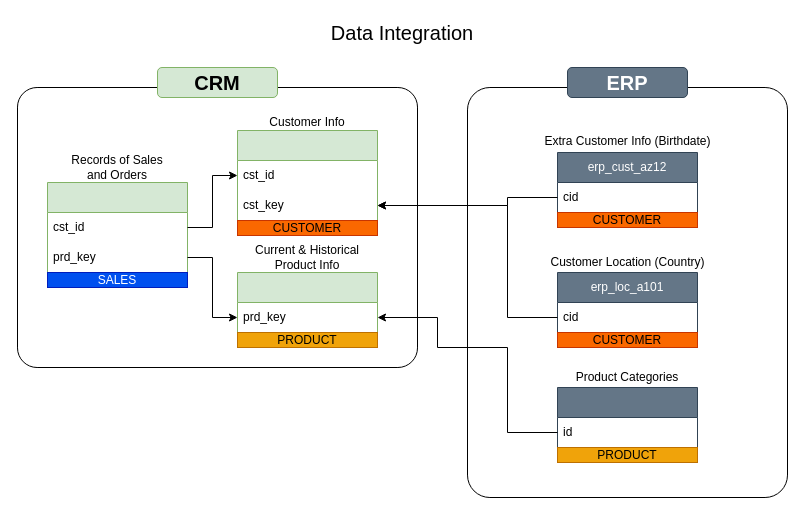
Image size: 805x515. Some labels were removed from this diagram. The shapes that lost their labels are listed below. From the top down, each one's box as (x1, y1, x2, y2) in pixels, then its label:
(236, 130, 378, 220): crm_cust_info
(46, 182, 188, 272): crm_sales_details
(236, 272, 378, 348): crm_prd_info
(556, 386, 698, 462): erp_px_cat_g1v2
